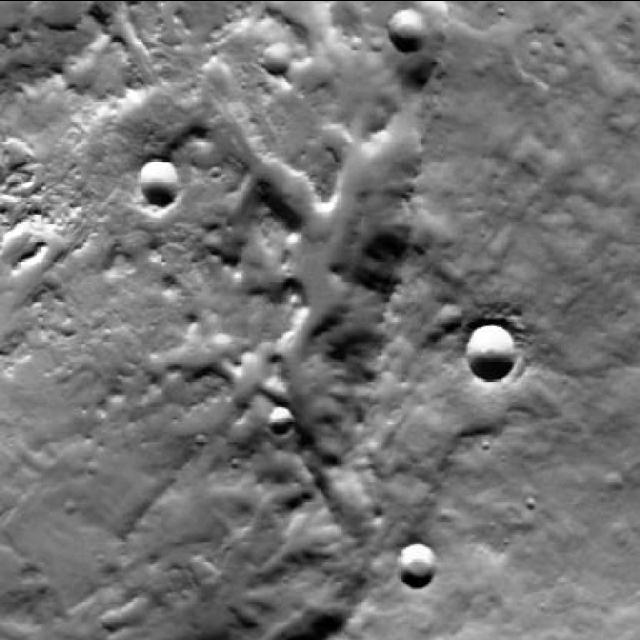crater: (463, 324, 512, 379), (392, 540, 434, 588), (140, 160, 182, 206), (382, 8, 426, 50), (269, 404, 293, 432)
